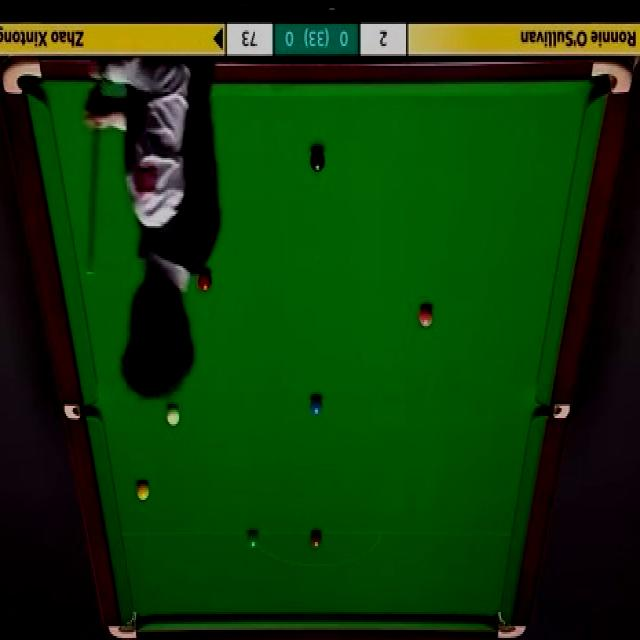pocket: (590, 55, 635, 97), (3, 61, 45, 97), (108, 608, 141, 640), (497, 612, 526, 638), (64, 403, 100, 422), (535, 405, 573, 420)
